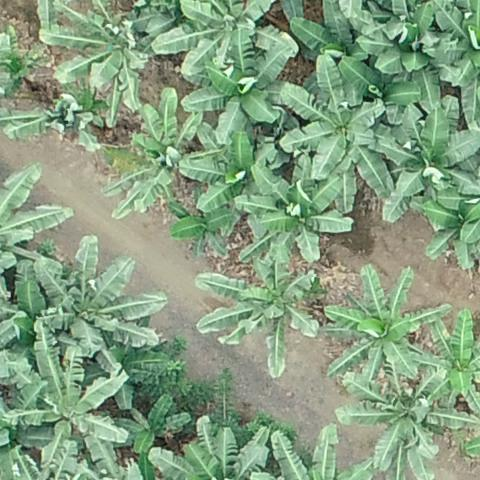Banana-plant: (37, 236, 169, 366), (11, 328, 126, 463), (324, 263, 448, 385), (340, 369, 478, 477), (194, 257, 317, 378), (38, 3, 157, 123), (104, 87, 203, 221), (284, 56, 384, 179), (383, 98, 480, 221), (182, 35, 287, 133), (242, 169, 350, 263), (158, 1, 300, 71), (180, 123, 280, 212), (150, 416, 267, 480), (412, 307, 480, 414), (357, 0, 455, 70), (290, 0, 377, 65), (340, 51, 422, 117), (437, 0, 480, 117), (119, 392, 191, 457), (424, 191, 480, 267)
